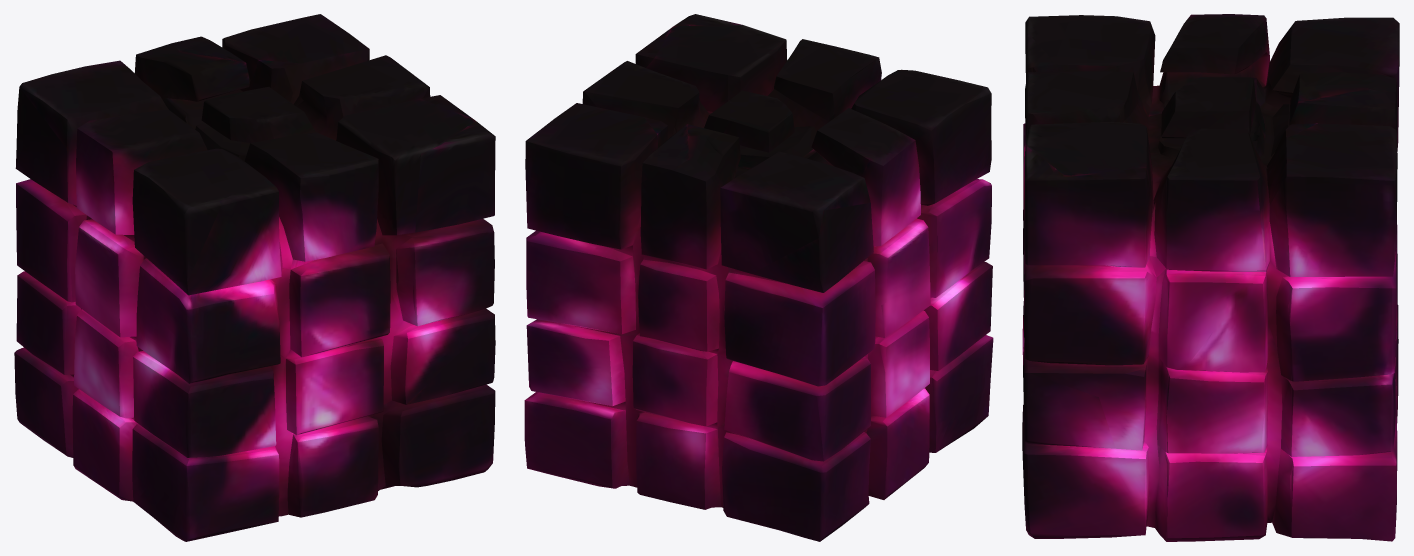
Rendered from m2NeonSpikeBlock.glb.
3 renders of one model, left to right at view 1: azimuth 30°, elevation 25°; view 2: azimuth 150°, elevation 25°; view 3: azimuth 270°, elevation 25°, orthographic. The views are drawn at different scales.
Visible parts, largest first — view 1: model; view 2: model; view 3: model.
Boxes of the visible parts, bbox=[...] form: model: bbox=[14, 14, 495, 541]; model: bbox=[524, 14, 993, 541]; model: bbox=[1022, 14, 1399, 541].
Bounding box in the file's own units: 1.77 × 1.89 × 1.71.
Materials: 1 (1 with a texture image).
